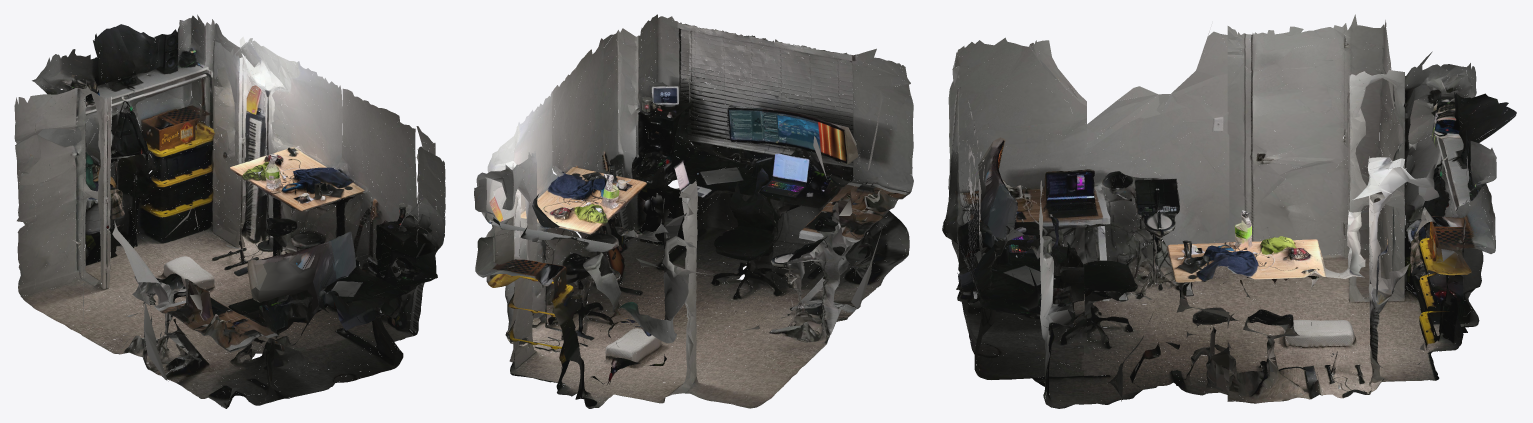
The model's file is bedroom.glb.
3 views of the same model, side by side, from view 1: azimuth 30°, elevation 25°; view 2: azimuth 150°, elevation 25°; view 3: azimuth 270°, elevation 25° (orthographic). The views are drawn at different scales.
Parts seen in each view (by area): view 1: Mesh_5, Mesh_3, Mesh_4, Mesh_2, Mesh_7, Mesh_0, Mesh_1, Mesh_6, Mesh_8, Mesh_9; view 2: Mesh_2, Mesh_5, Mesh_3, Mesh_4, Mesh_0, Mesh_1, Mesh_7, Mesh_6, Mesh_8, Mesh_9; view 3: Mesh_4, Mesh_3, Mesh_5, Mesh_1, Mesh_2, Mesh_7, Mesh_0, Mesh_6, Mesh_8, Mesh_9.
Boxes of the visible parts, x1,y1,x2,y2 form: Mesh_5: (19, 14, 445, 402); Mesh_3: (14, 21, 445, 405); Mesh_4: (15, 19, 445, 407); Mesh_2: (18, 23, 445, 401); Mesh_7: (19, 20, 441, 402); Mesh_0: (42, 15, 445, 396); Mesh_1: (14, 31, 445, 396); Mesh_6: (17, 46, 439, 396); Mesh_8: (17, 24, 445, 398); Mesh_9: (18, 32, 435, 408); Mesh_2: (476, 14, 913, 407); Mesh_5: (476, 16, 910, 408); Mesh_3: (478, 21, 913, 406); Mesh_4: (485, 23, 913, 408); Mesh_0: (474, 36, 882, 403); Mesh_1: (484, 16, 909, 397); Mesh_7: (475, 20, 913, 384); Mesh_6: (475, 37, 913, 405); Mesh_8: (486, 28, 910, 384); Mesh_9: (485, 26, 908, 388); Mesh_4: (943, 14, 1496, 408); Mesh_3: (942, 26, 1508, 404); Mesh_5: (948, 40, 1515, 403); Mesh_1: (950, 20, 1477, 408); Mesh_2: (946, 26, 1516, 404); Mesh_7: (945, 28, 1494, 405); Mesh_0: (950, 31, 1496, 398); Mesh_6: (948, 38, 1495, 399); Mesh_8: (942, 43, 1488, 399); Mesh_9: (958, 41, 1496, 387).
Bounding box in the file's own units: 12.41 × 9.33 × 17.93.
Materials: 10 (10 with a texture image).
